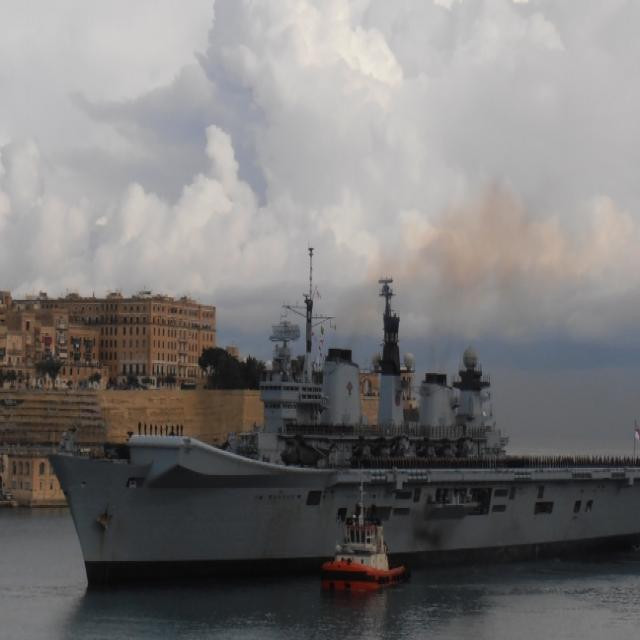Portanaves: (50, 244, 640, 600)
